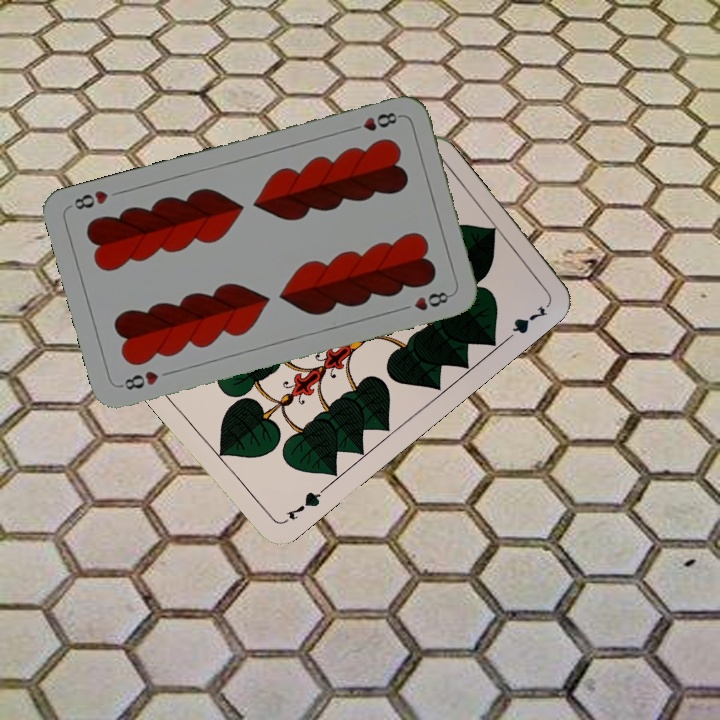G7: (282, 484, 327, 523)
H8: (346, 108, 404, 134), (116, 367, 161, 393)
